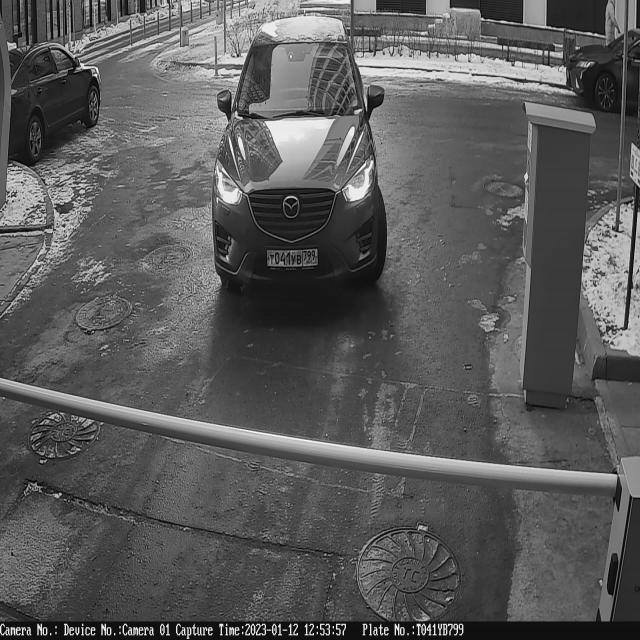car-plate-numbers: (263, 242, 327, 276)
